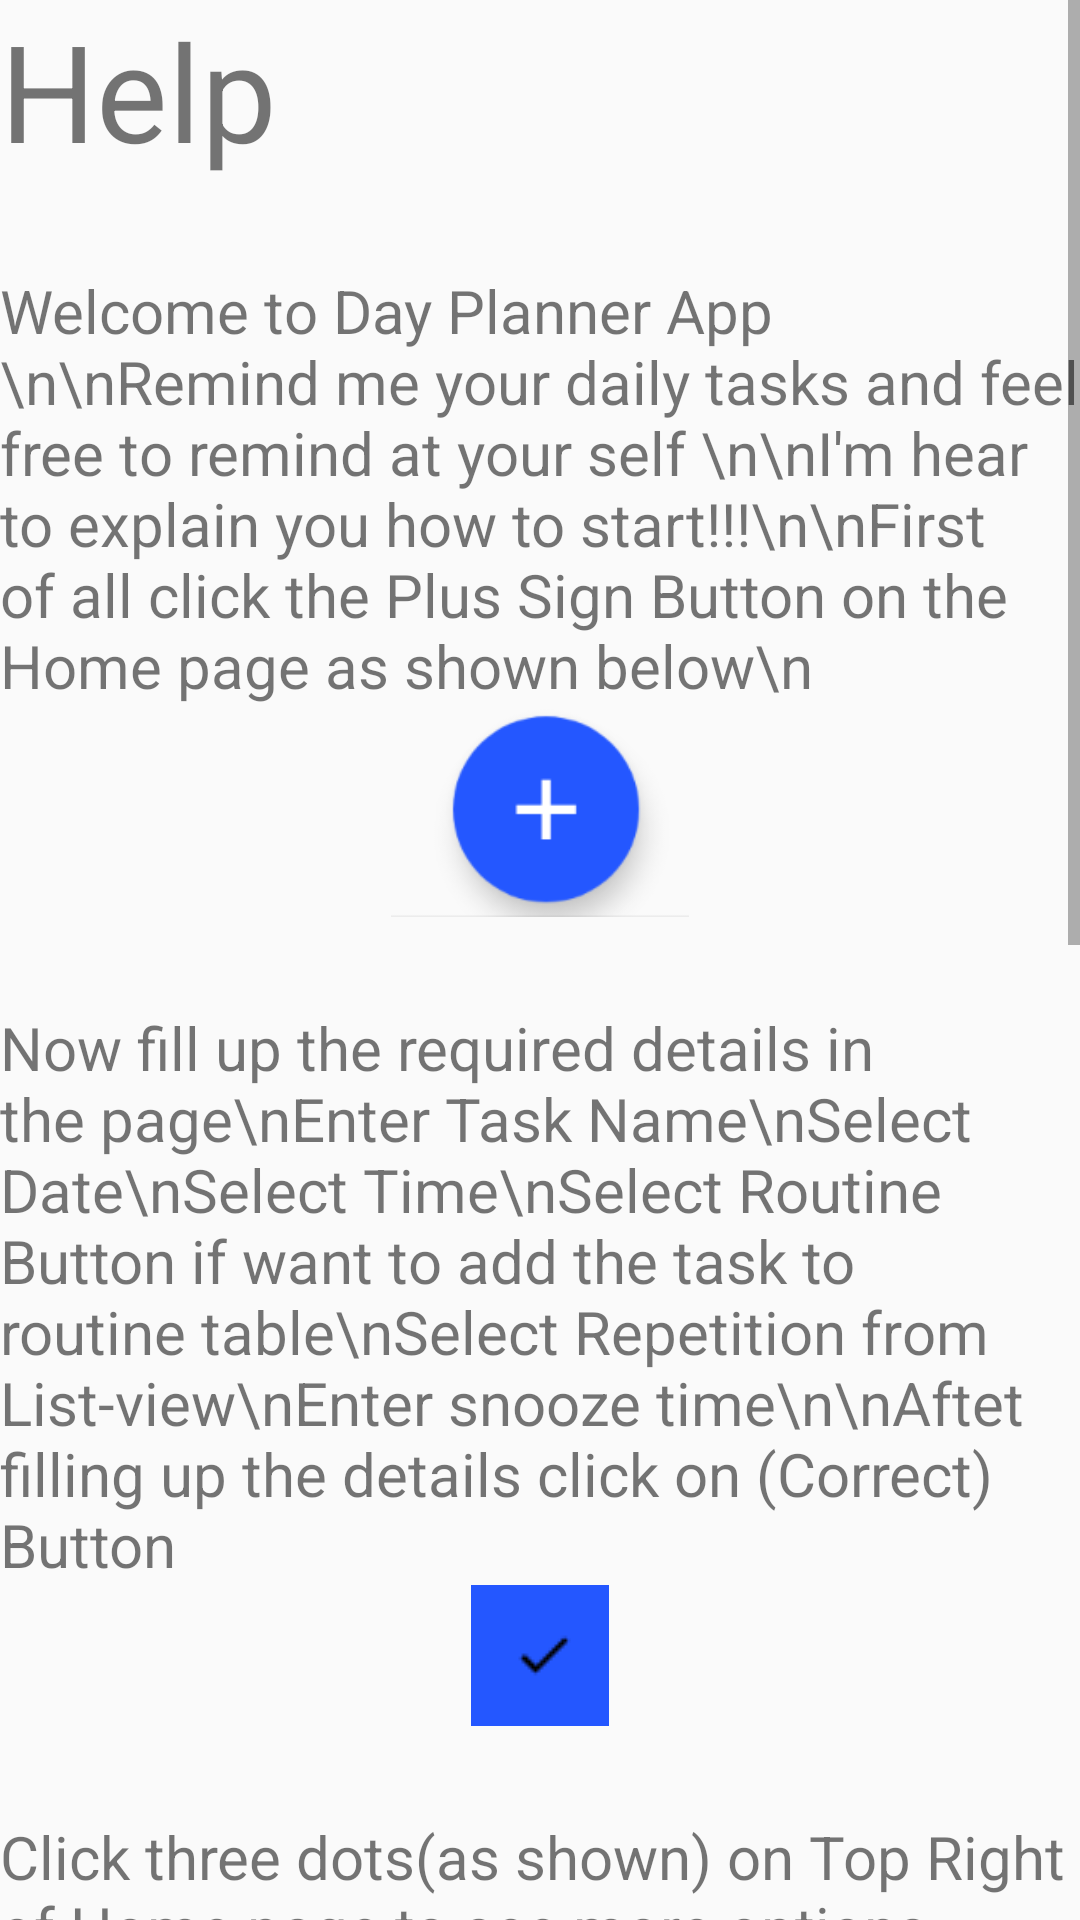

Icon bounding boxes for this 1080px×1920px phone screenshot, format (x1, y1, x2, y2):
correct: (471, 1585, 609, 1726)
